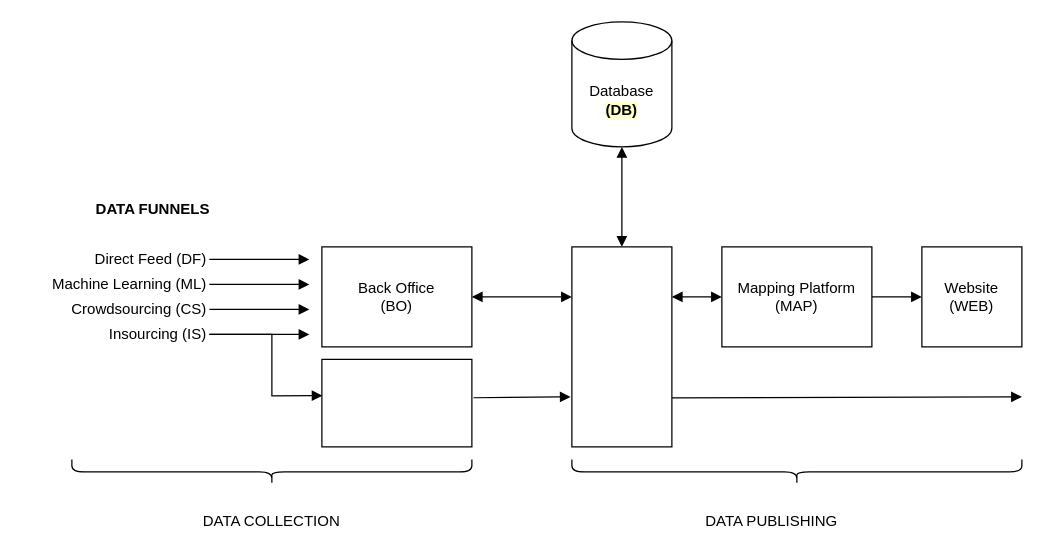
Some shapes in this 1054 by 556 pixel diagram are drawn without their labels. The shapes that lost their labels are listed below. From the top down, each one's centre as x and y in pixels, then its label:
At [621,346]: "Back End (API)".
At [396,402]: "Data Entry Interface (DEI) TO BE DEPRECATED".
